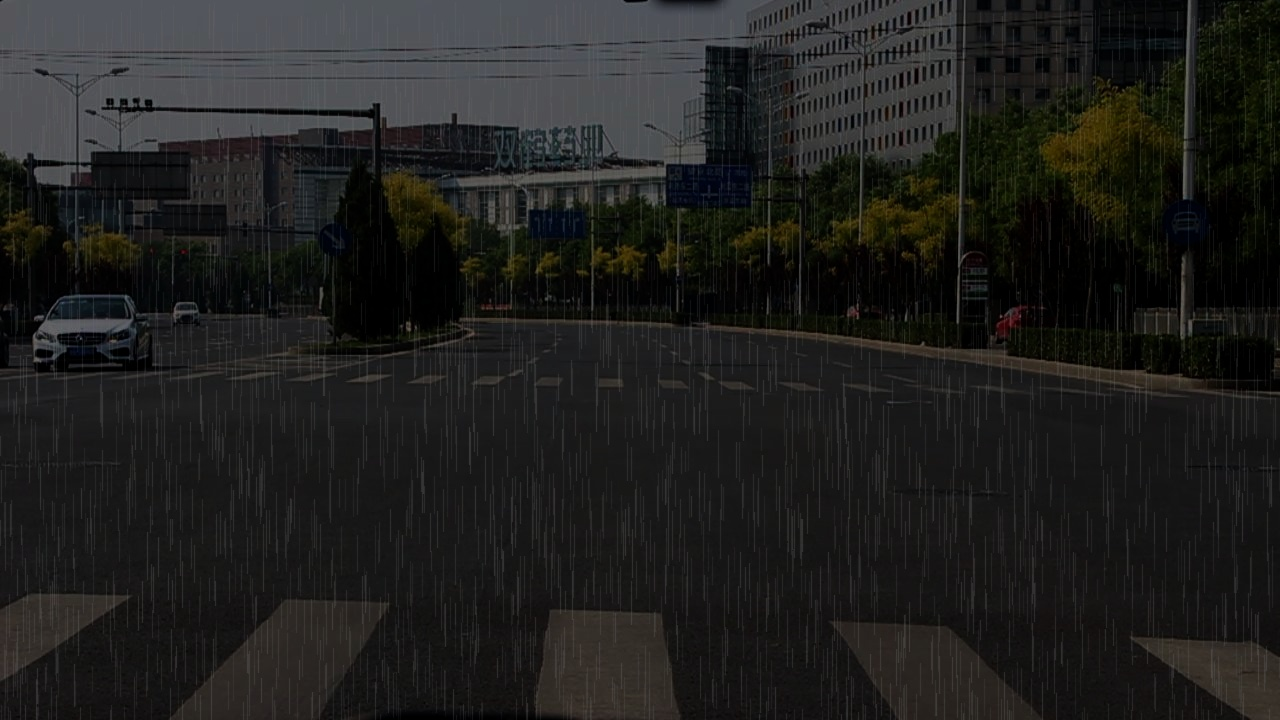Informative Signs: (1160, 196, 1211, 248), (316, 221, 354, 258)
